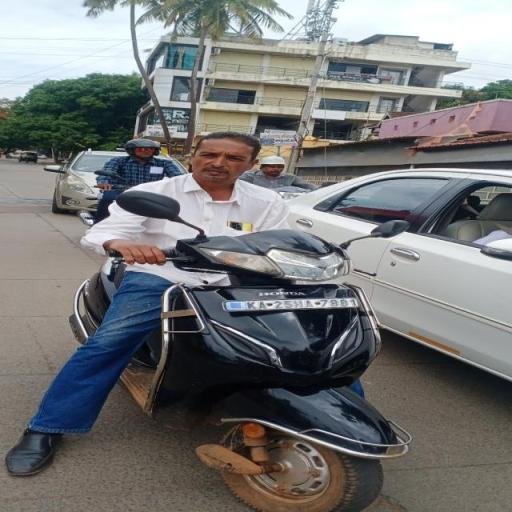bike: (58, 116, 416, 512)
numberplate: (220, 294, 362, 312)
withouthelmet: (194, 132, 260, 179)
